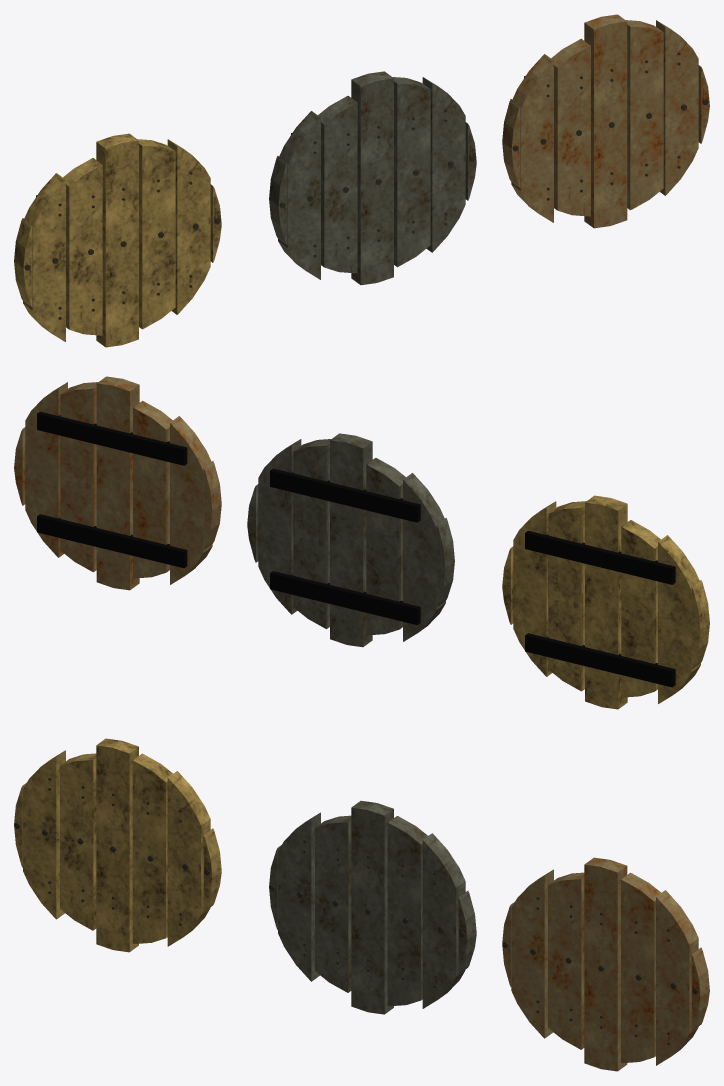
The model's file is shields.fbx.
3 views of the same model, one above another, from view 1: azimuth 30°, elevation 25°; view 2: azimuth 150°, elevation 25°; view 3: azimuth 330°, elevation 25° (orthographic).
Visible parts, largest first — view 1: Cylinder.001, shield2_lowpoly.002, shield2_lowpoly.001; view 2: shield2_lowpoly.002, shield2_lowpoly.001, Cylinder.001; view 3: shield2_lowpoly.002, Cylinder.001, shield2_lowpoly.001.
Boxes of the visible parts, x1=… form: Cylinder.001: x1=14, y1=133, x2=221, y2=347; shield2_lowpoly.002: x1=502, y1=14, x2=709, y2=228; shield2_lowpoly.001: x1=269, y1=71, x2=476, y2=285; shield2_lowpoly.002: x1=14, y1=376, x2=221, y2=590; shield2_lowpoly.001: x1=247, y1=433, x2=454, y2=647; Cylinder.001: x1=502, y1=495, x2=709, y2=709; shield2_lowpoly.002: x1=502, y1=857, x2=709, y2=1071; Cylinder.001: x1=14, y1=738, x2=221, y2=952; shield2_lowpoly.001: x1=269, y1=800, x2=476, y2=1014.
Size of the model in its own units: 1233 by 347 by 42.54.
